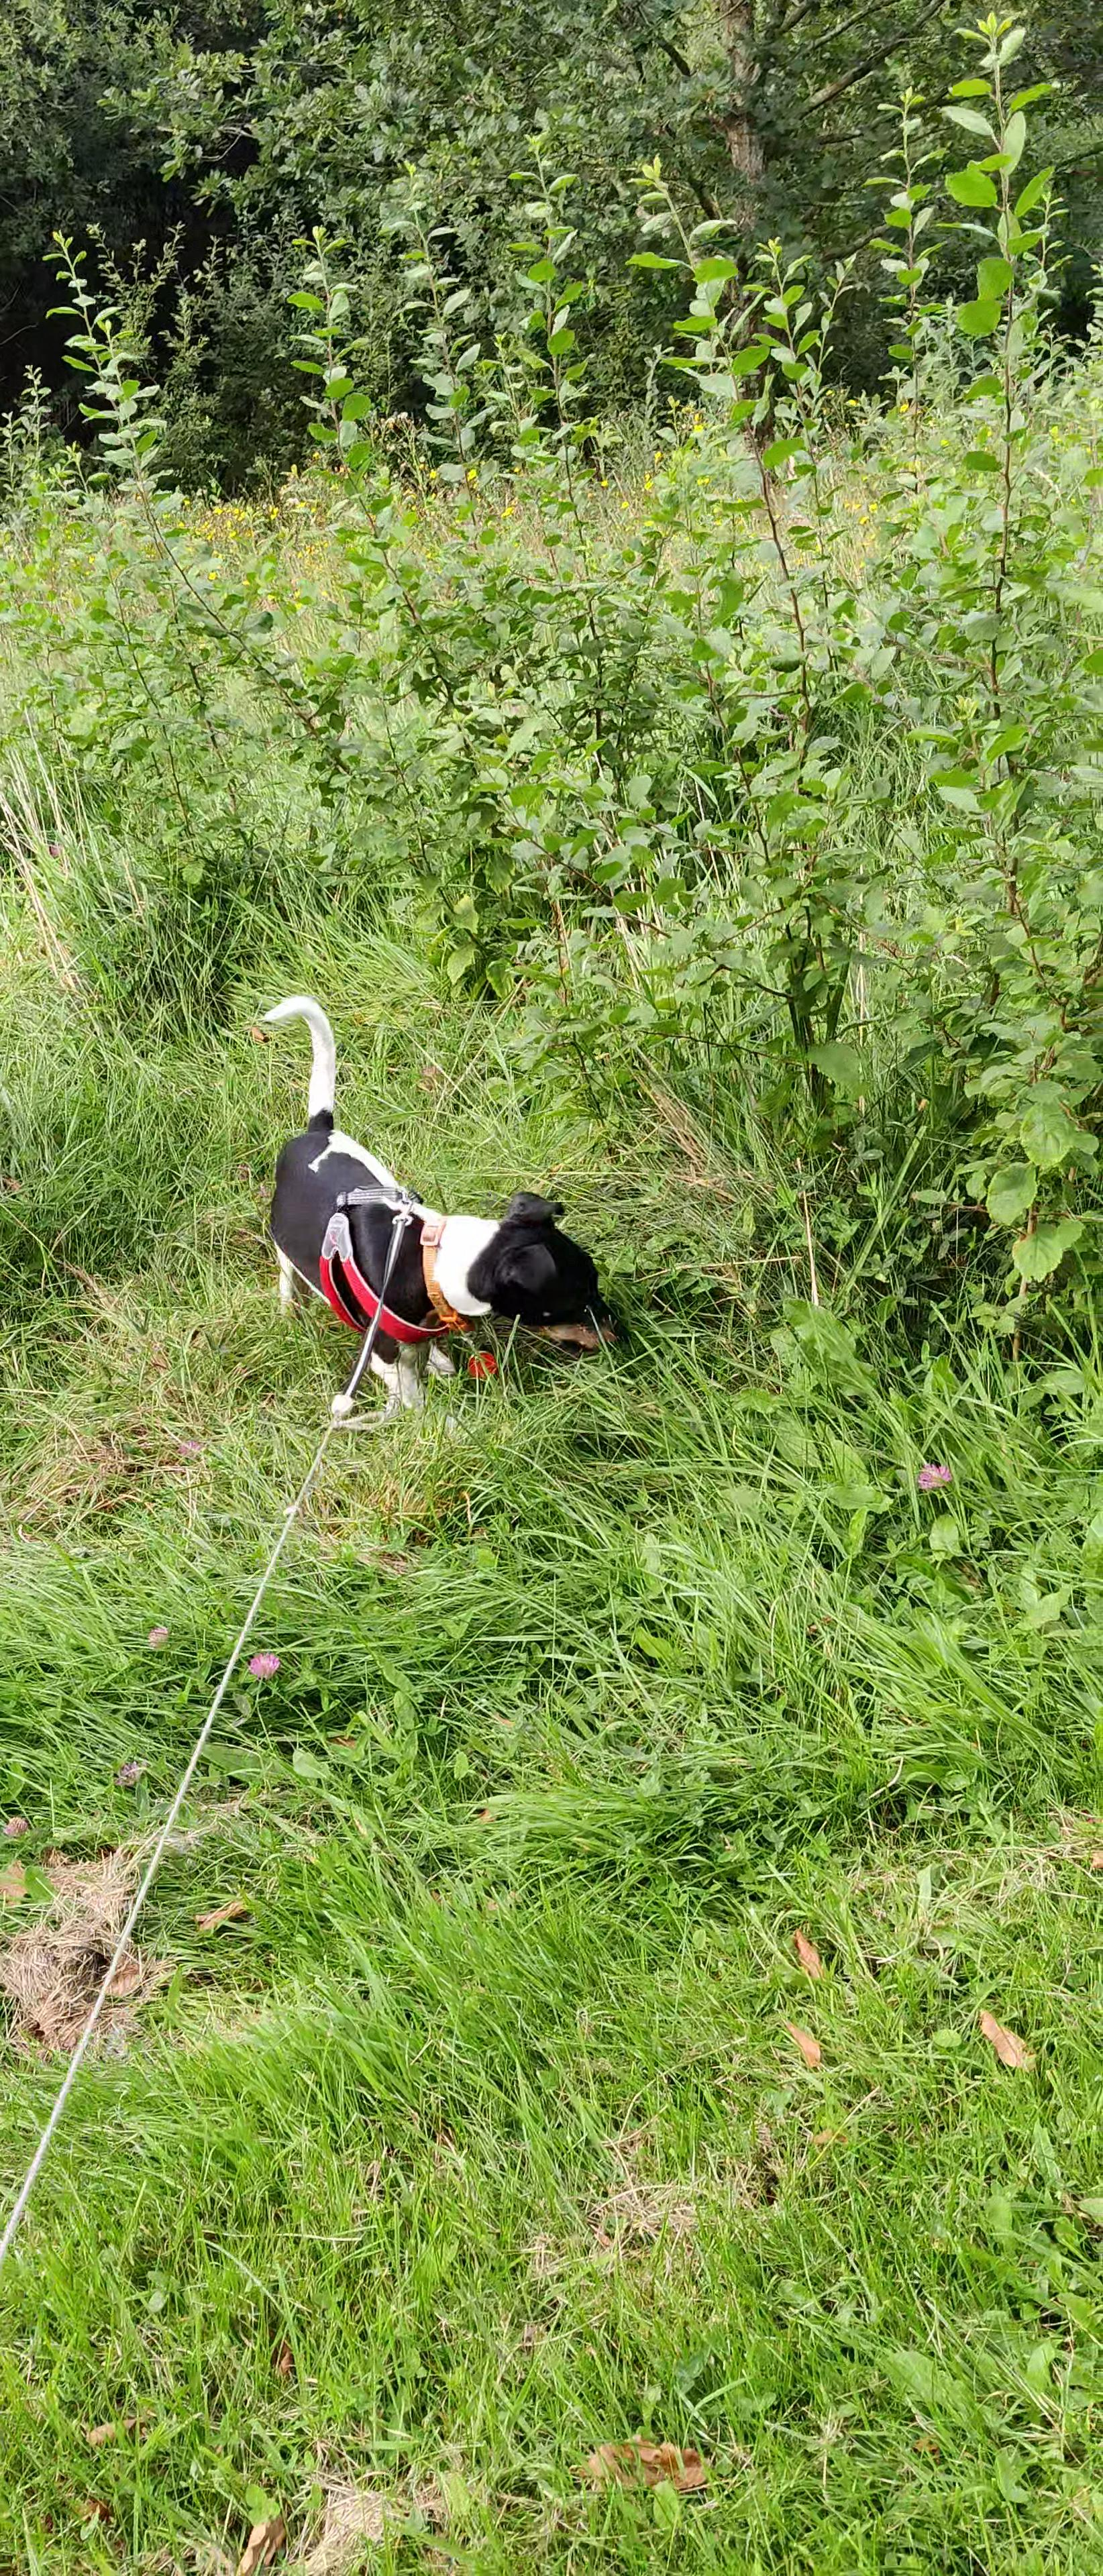Dog: (258, 989, 638, 1421)
